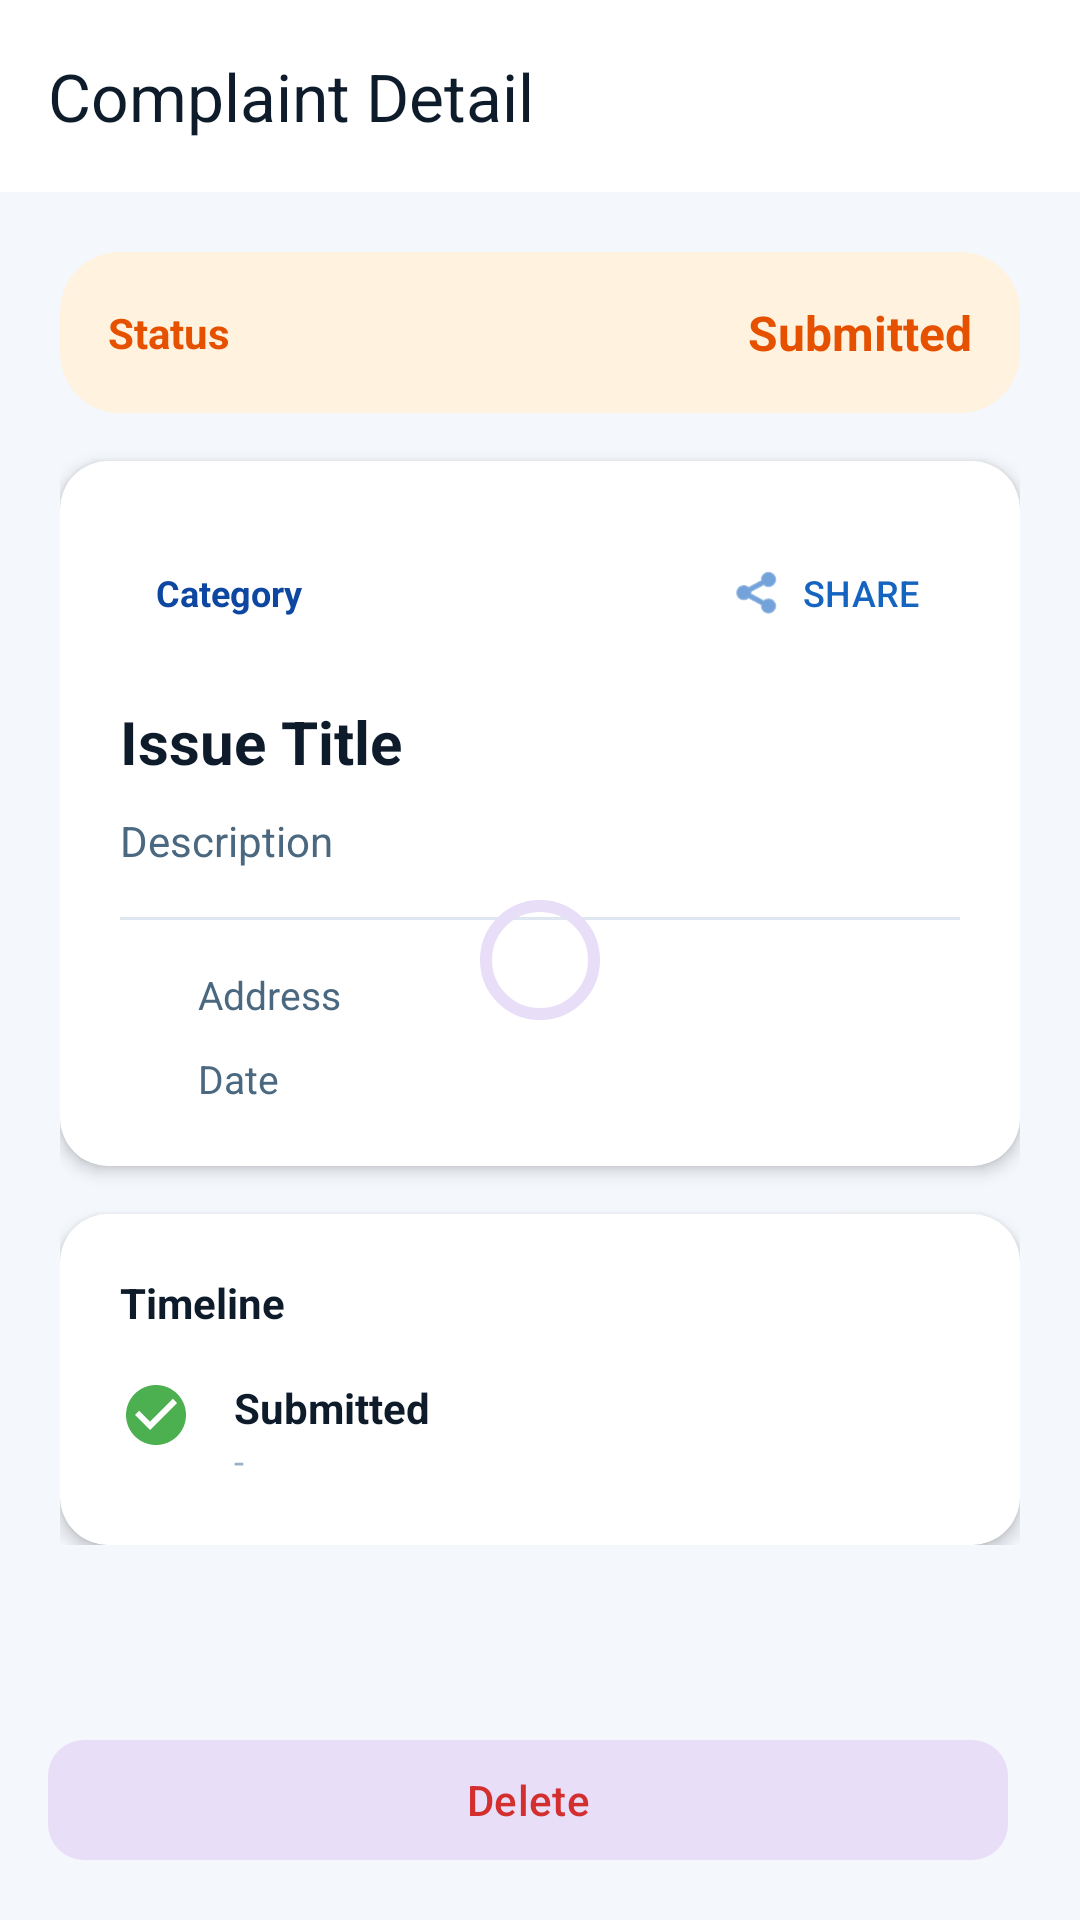

Screen size 1080px×1920px. Icon name, then its box in pixels as (x1, y1, x2, y2):
check circle: (126, 1385, 186, 1445)
